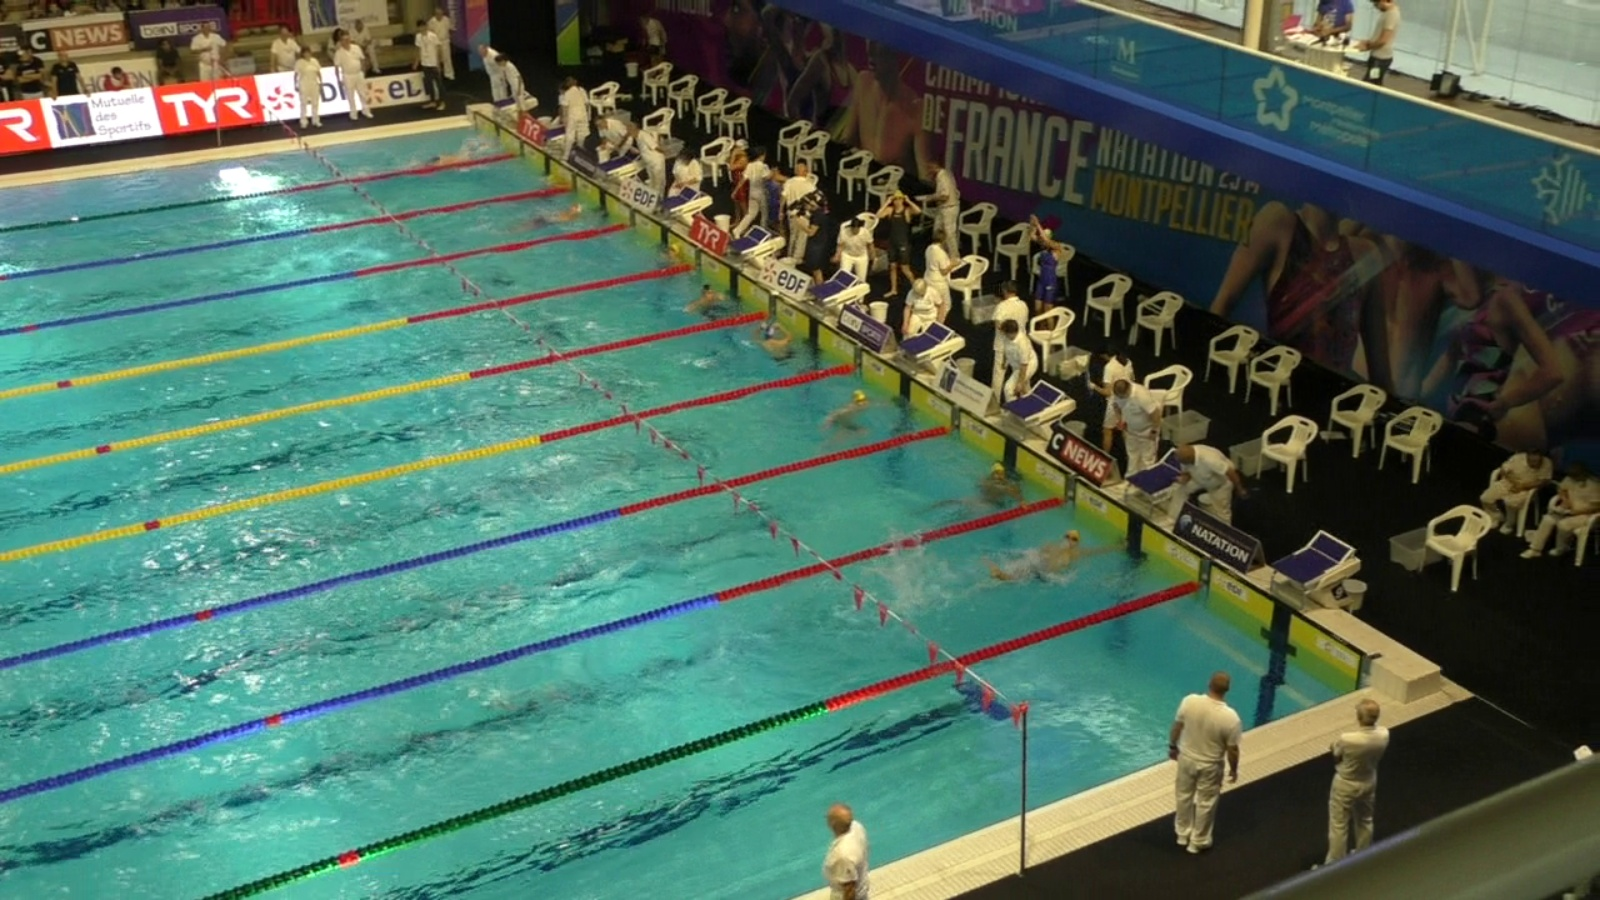swimmerwdd: (982, 525, 1127, 591), (915, 459, 1033, 527), (479, 193, 602, 244), (811, 388, 881, 449), (403, 135, 505, 177), (743, 320, 814, 363), (678, 284, 742, 327), (482, 176, 566, 207), (649, 238, 687, 280)
